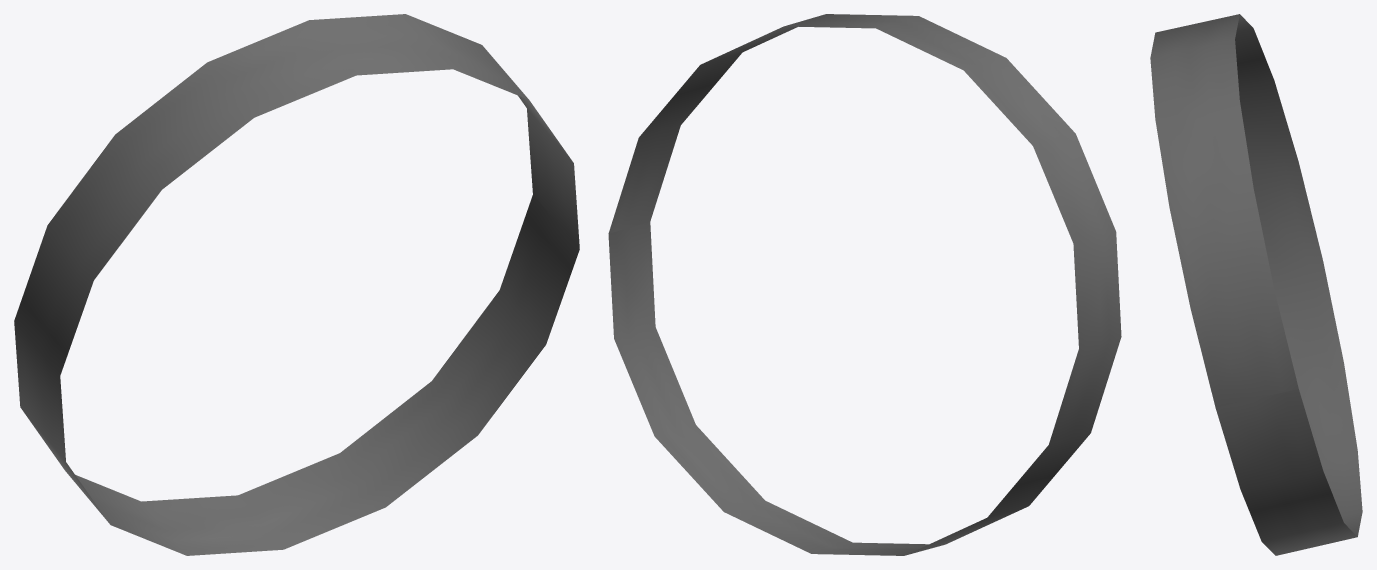
File: mastarmcurve_8x2_c5.obj
3 views of the same model, side by side, from view 1: azimuth 30°, elevation 25°; view 2: azimuth 150°, elevation 25°; view 3: azimuth 270°, elevation 25° (orthographic). The views are drawn at different scales.
Visible parts, largest first — view 1: mastarm_8x2_c5; view 2: mastarm_8x2_c5; view 3: mastarm_8x2_c5.
Boxes of the visible parts, x1=… form: mastarm_8x2_c5: x1=14, y1=14, x2=579, y2=555; mastarm_8x2_c5: x1=608, y1=14, x2=1121, y2=555; mastarm_8x2_c5: x1=1150, y1=14, x2=1362, y2=555.
Size of the model in its own units: 0.5375 by 0.542 by 0.2123.
